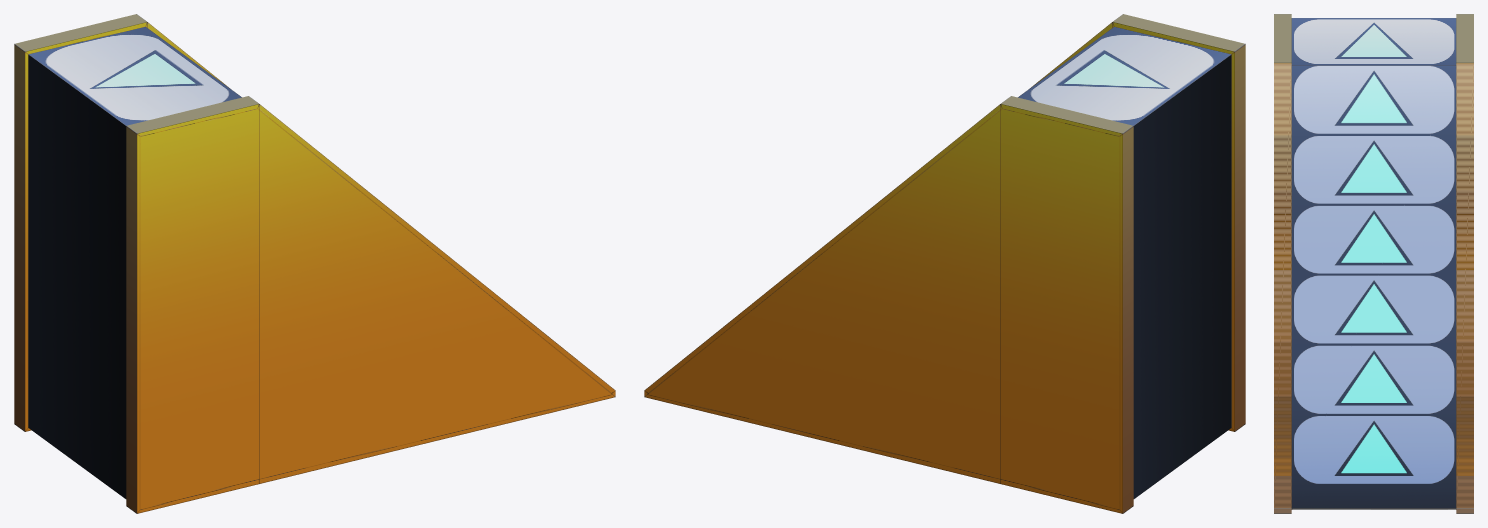
The model's file is Rampa.fbx.
3 views of the same model, side by side, from view 1: azimuth 30°, elevation 25°; view 2: azimuth 150°, elevation 25°; view 3: azimuth 270°, elevation 25° (orthographic). The views are drawn at different scales.
Parts seen in each view (by area): view 1: Cube; view 2: Cube; view 3: Cube.
Part boxes in pixels (x1,y1,x2,y2): Cube: (14,14,615,513); Cube: (644,14,1245,513); Cube: (1274,14,1473,513).
Size of the model in its own units: 363 by 276 by 161.
